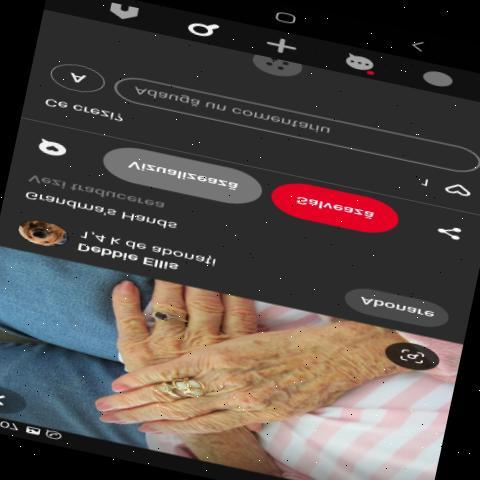Hands: (89, 328, 407, 441), (100, 271, 282, 376)
